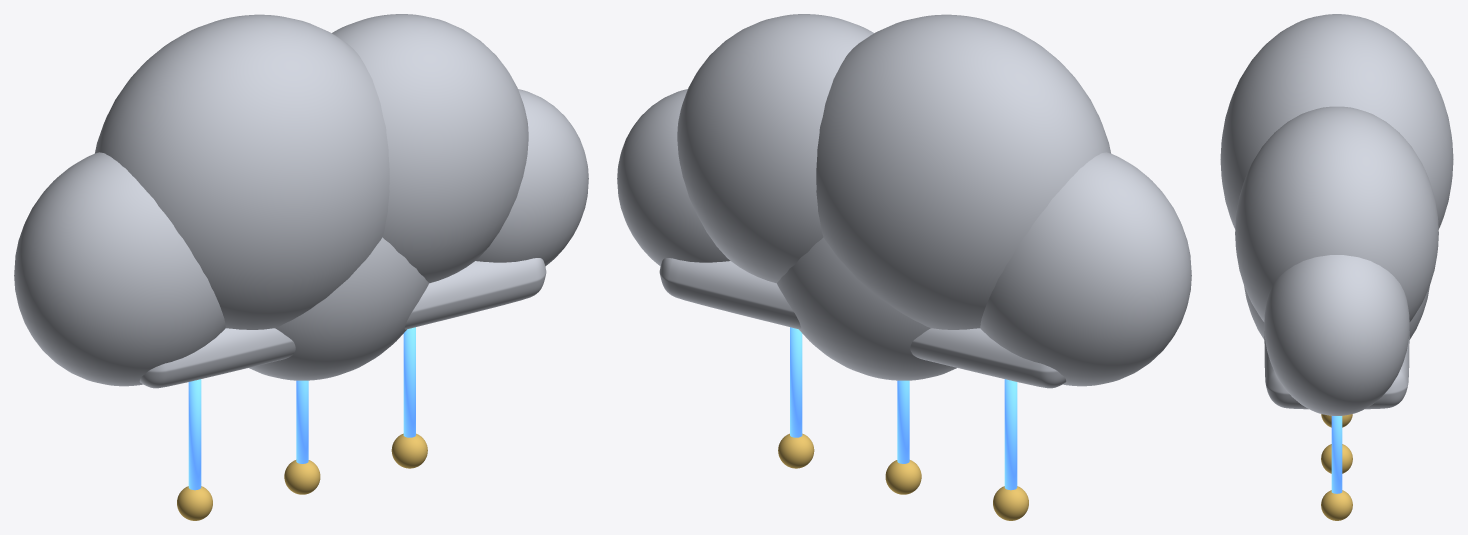
File: cloud.glb
The picture shows the model from 3 angles, left to right: view 1: azimuth 30°, elevation 25°; view 2: azimuth 150°, elevation 25°; view 3: azimuth 270°, elevation 25°; orthographic projection. The views are drawn at different scales.
Parts seen in each view (by area): view 1: cloud.001, cloud, cloud.002, cloud.004, base, cloud.003, mover_link, mover_link.002, mover_link.001, link_dot.002, link_dot.001, link_dot; view 2: cloud.001, cloud, cloud.002, cloud.004, base, cloud.003, mover_link, mover_link.002, mover_link.001, link_dot.002, link_dot.001, link_dot; view 3: cloud.002, cloud.001, cloud.003, base, mover_link.002, link_dot.002, cloud.004, link_dot.001.
Part boxes in pixels (x1,y1,x2,y2): cloud.001: [95, 14, 389, 329]; cloud: [14, 152, 225, 386]; cloud.002: [332, 14, 528, 283]; cloud.004: [249, 237, 428, 380]; base: [139, 258, 546, 388]; cloud.003: [475, 89, 588, 266]; mover_link: [188, 379, 201, 490]; mover_link.002: [403, 327, 415, 437]; mover_link.001: [296, 380, 308, 463]; link_dot.002: [391, 433, 427, 468]; link_dot.001: [284, 460, 320, 494]; link_dot: [177, 486, 212, 520]; cloud.001: [816, 14, 1110, 329]; cloud: [980, 152, 1191, 386]; cloud.002: [677, 14, 873, 283]; cloud.004: [777, 237, 956, 380]; base: [659, 258, 1066, 388]; cloud.003: [617, 89, 730, 266]; mover_link: [1004, 379, 1017, 490]; mover_link.002: [790, 327, 802, 437]; mover_link.001: [897, 380, 909, 463]; link_dot.002: [778, 433, 814, 468]; link_dot.001: [885, 460, 921, 494]; link_dot: [993, 486, 1028, 520]; cloud.002: [1235, 106, 1438, 321]; cloud.001: [1220, 14, 1453, 229]; cloud.003: [1264, 255, 1409, 415]; base: [1264, 331, 1409, 409]; mover_link.002: [1331, 416, 1342, 493]; link_dot.002: [1321, 490, 1352, 520]; cloud.004: [1244, 286, 1429, 339]; link_dot.001: [1321, 444, 1352, 473].
Bounding box in the file's own units: 1.24 × 1.03 × 0.512.
